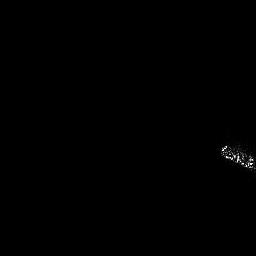ship: (219, 140, 256, 174)
